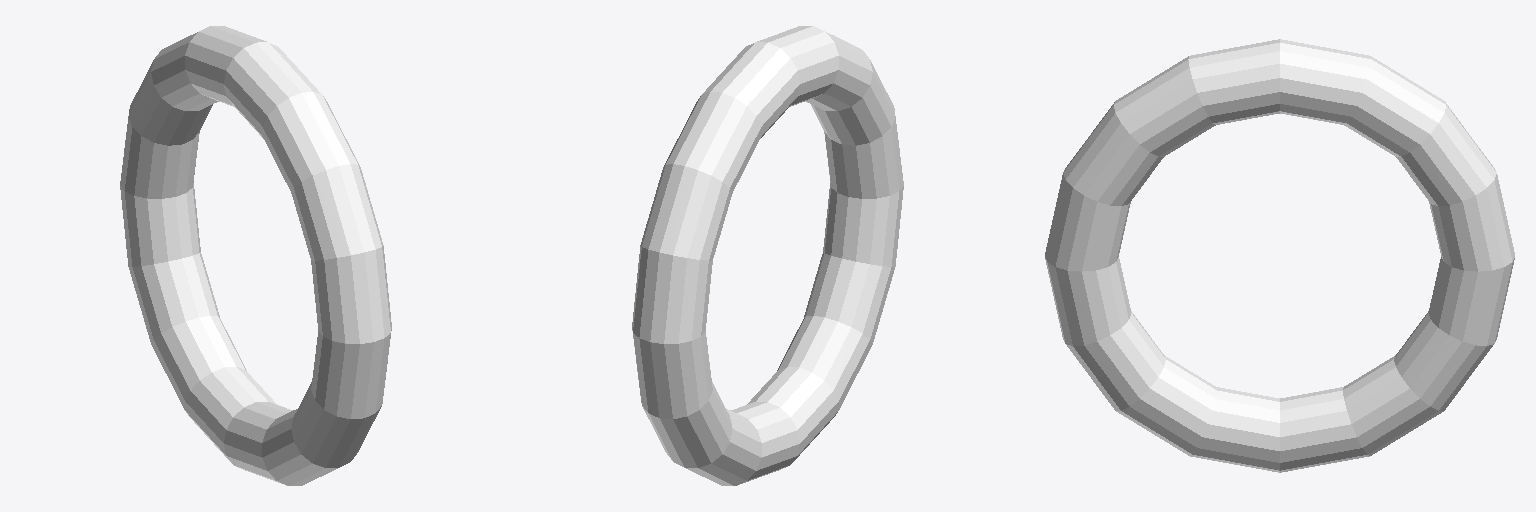
File: Argolla.obj
The picture shows the model from 3 angles: view 1: azimuth 30°, elevation 25°; view 2: azimuth 150°, elevation 25°; view 3: azimuth 270°, elevation 25°; orthographic projection.
Parts seen in each view (by area): view 1: Argolla; view 2: Argolla; view 3: Argolla.
Boxes of the visible parts, x1,y1,x2,y2 form: Argolla: [120, 26, 391, 485]; Argolla: [632, 26, 903, 485]; Argolla: [1045, 39, 1514, 472].
Size of the model in its own units: 0.0024 by 0.0154 by 0.0154.